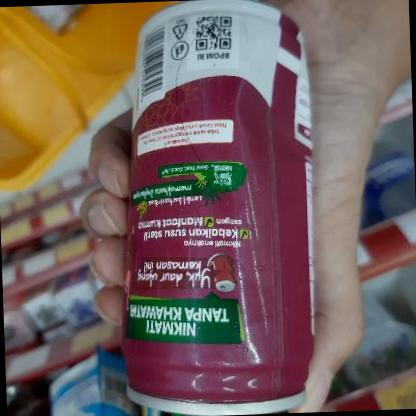alumunium_can: (116, 0, 338, 416)
